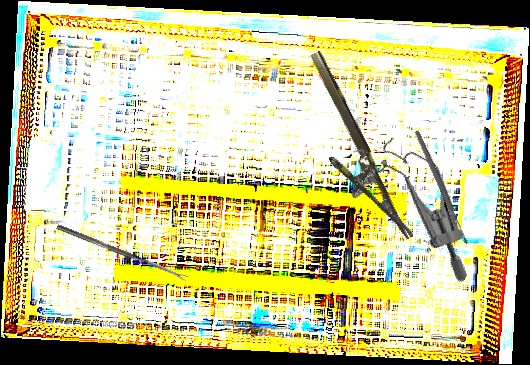Needle Holder: (284, 49, 414, 255)
Speculum: (324, 122, 510, 286)
Surgical Spoon: (55, 223, 189, 283), (412, 128, 471, 247)
